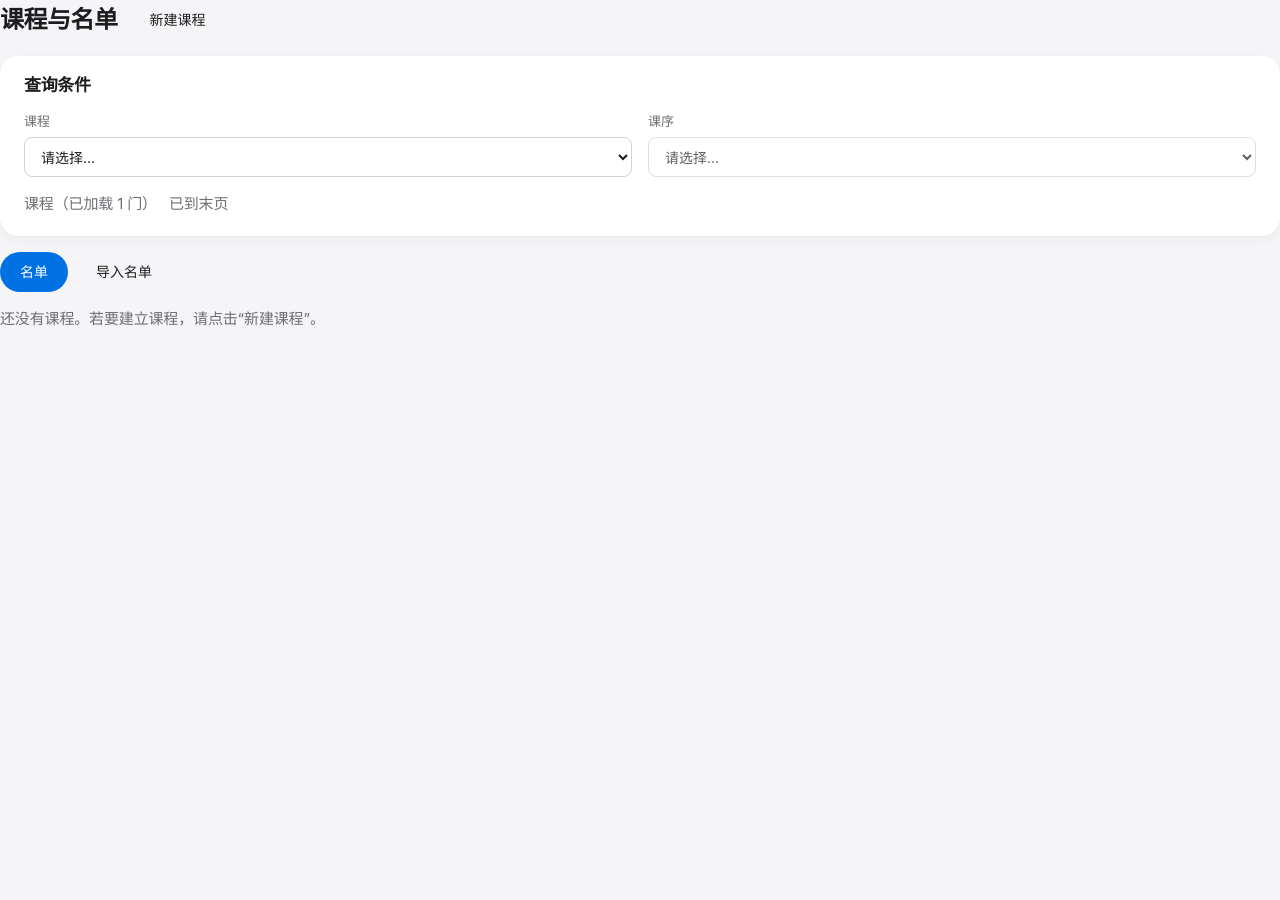
Test case: 课程与名单工作区（P12） › 课程名称为空时不发请求，只提示必填
The image size is (1280, 900).
Select "OS-2026 · 操作系统" in the dropdown labelled "课程" at x=328, y=157, box [24,137,632,177]
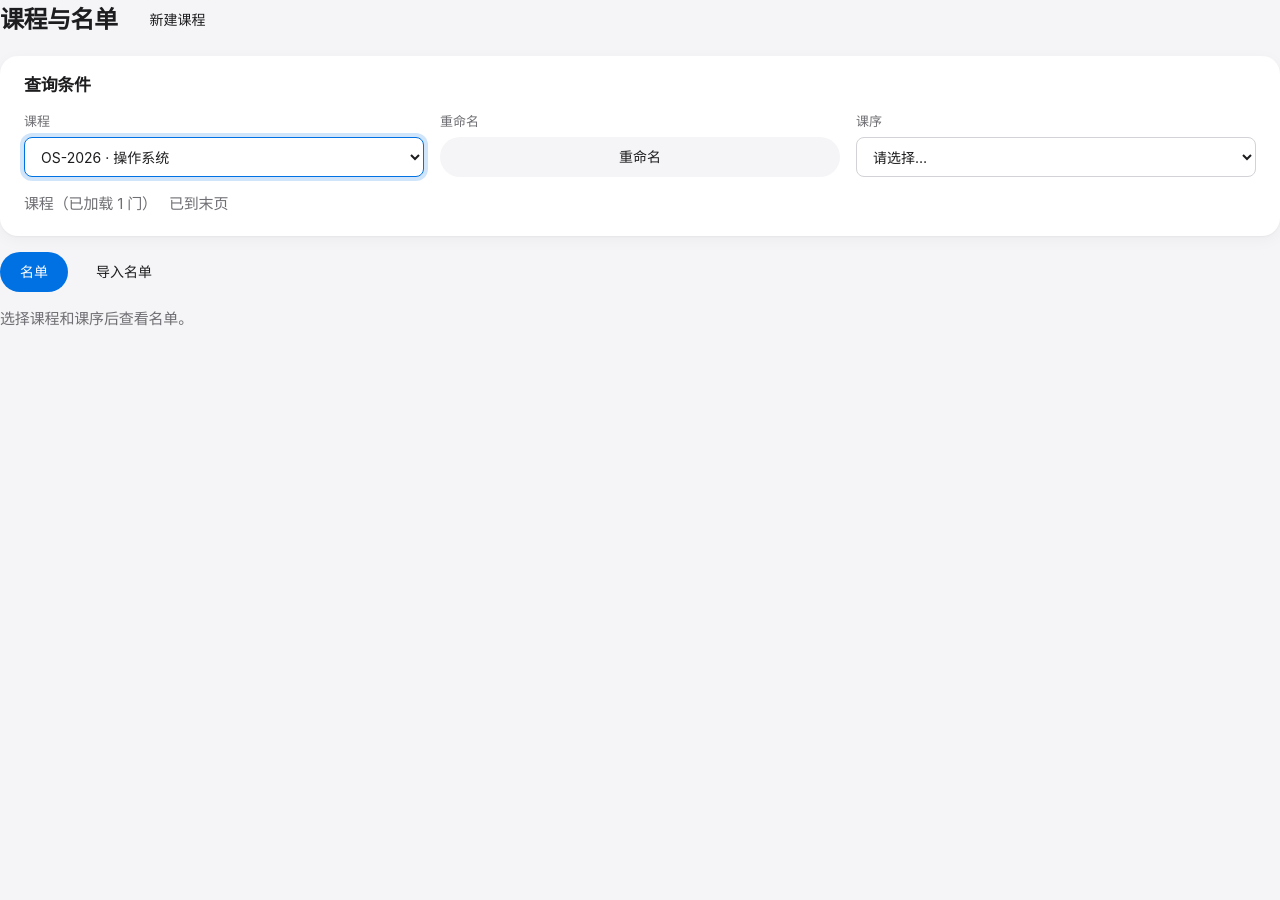
Select "01" in the dropdown labelled "课序" at x=1056, y=157, box [856,137,1256,177]
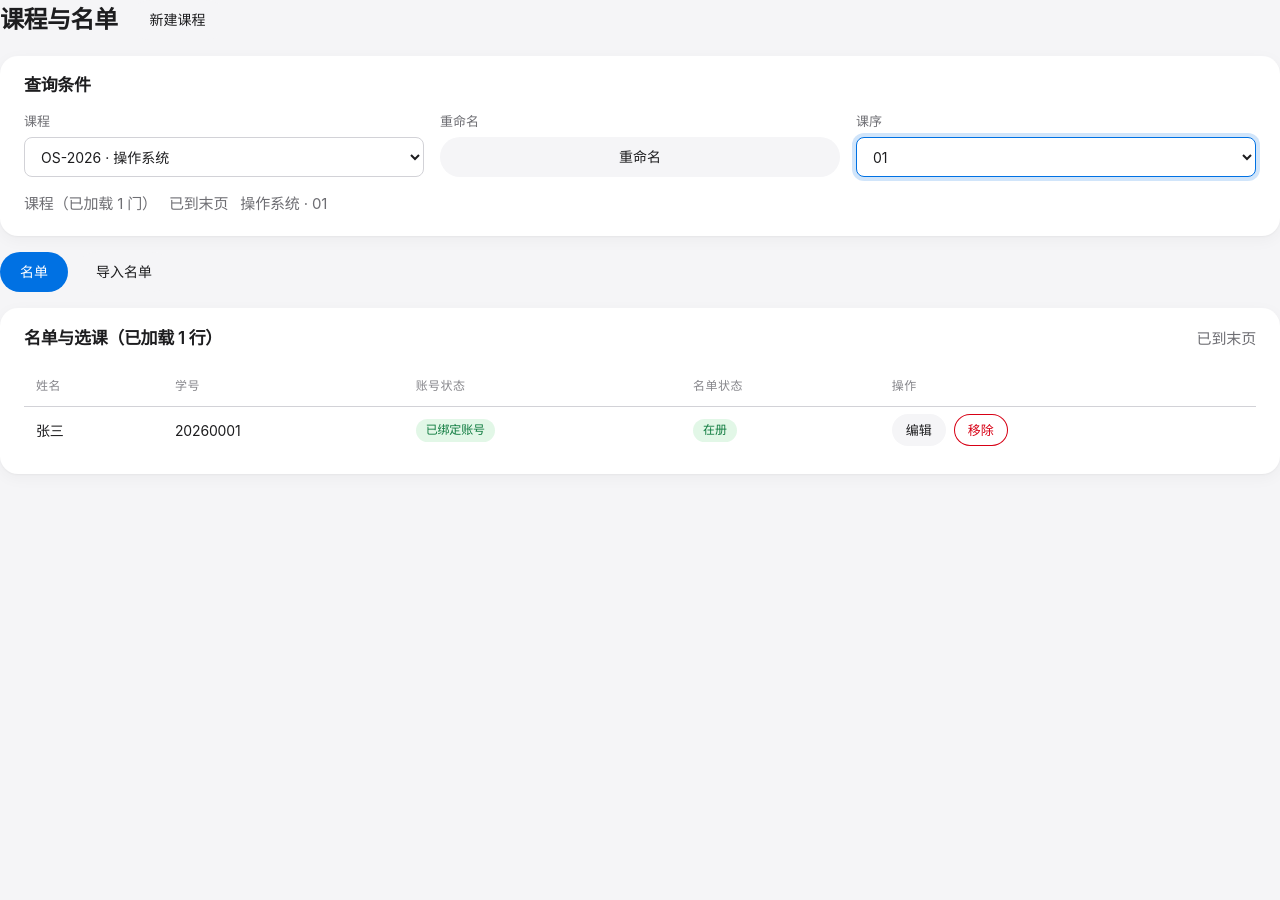
Click the button with test id "create-course-entry".
click(178, 20)  # box [130,0,226,40]
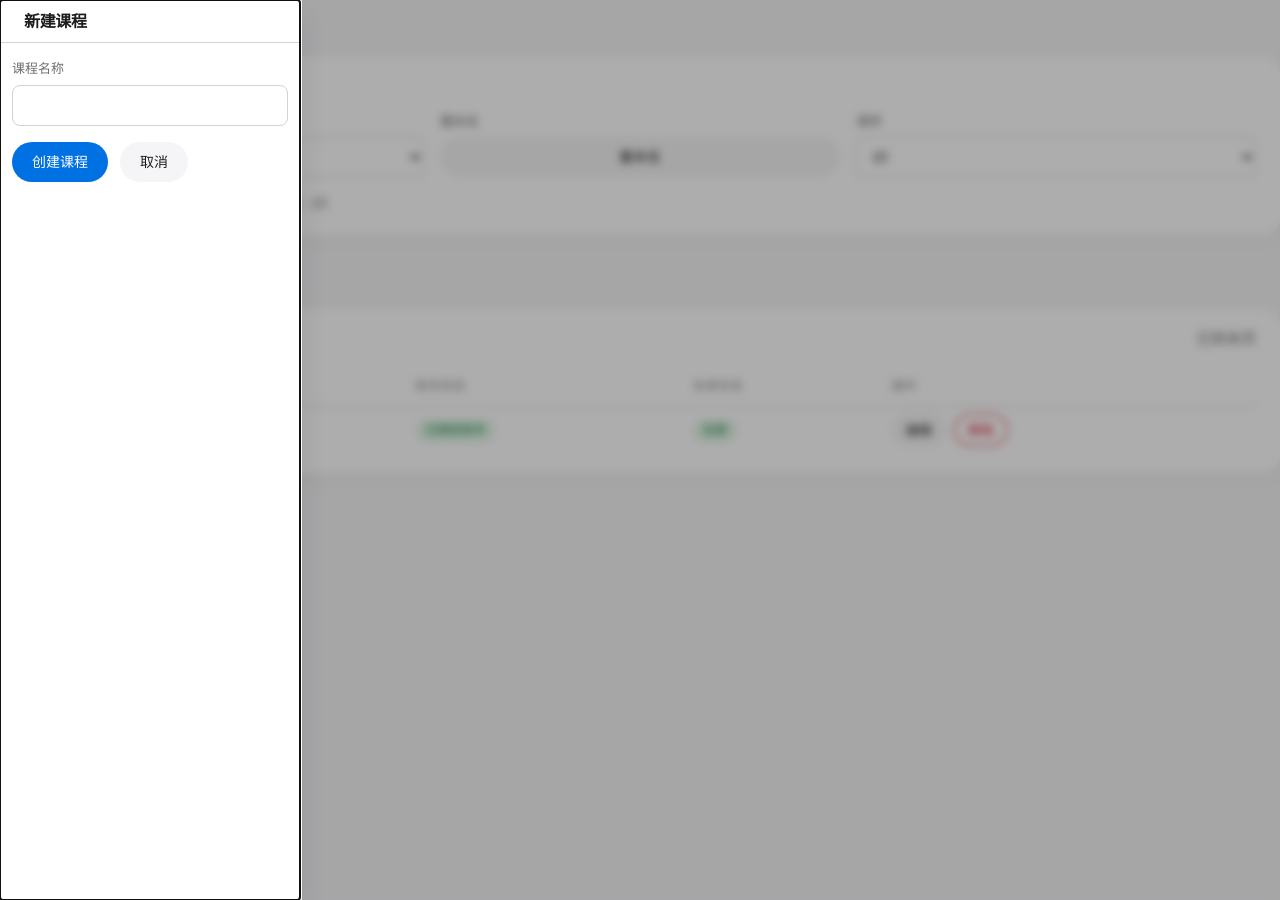
Click the button "创建课程".
click(60, 162)  # box [12,142,108,182]
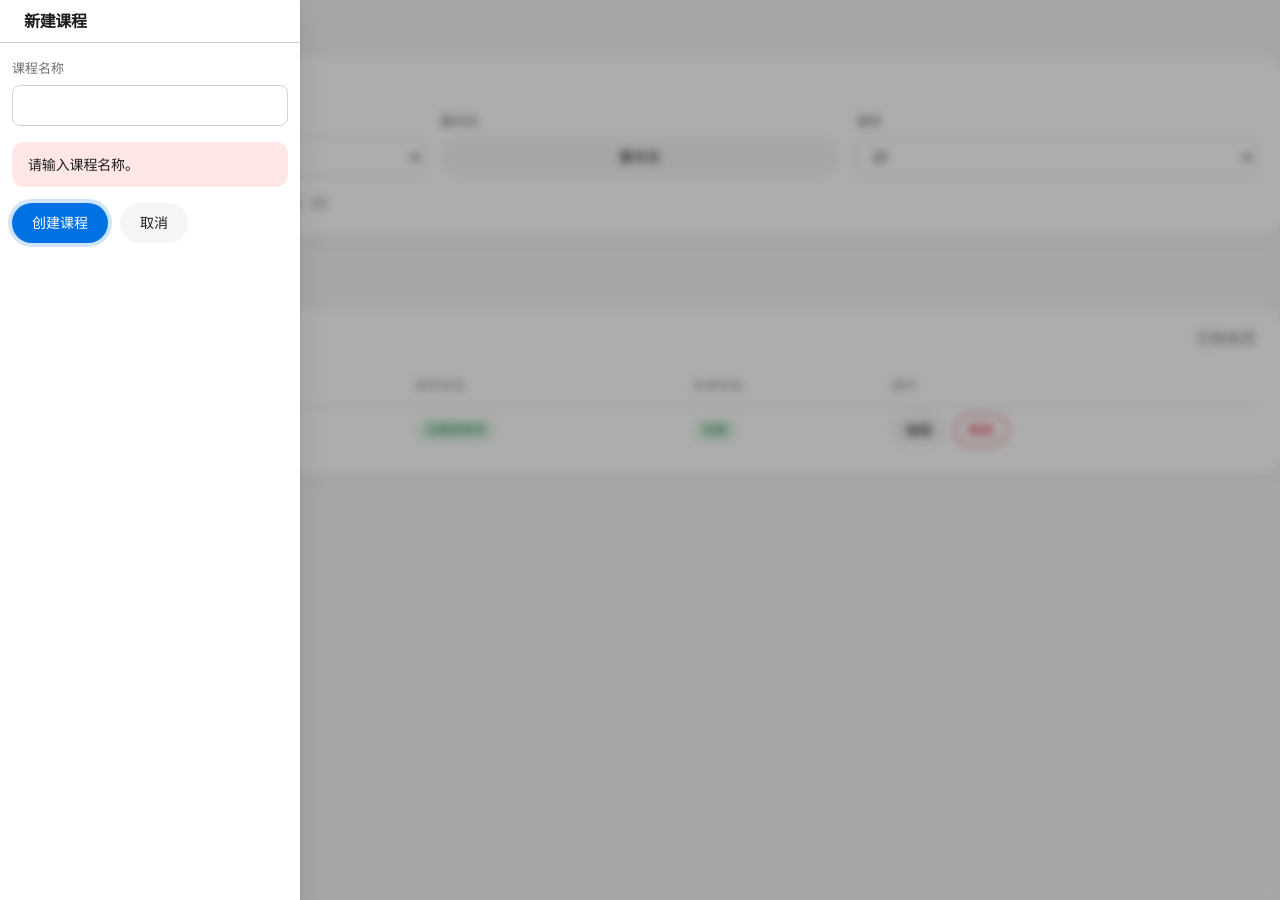
Check: the message with test id "create-course-error" reads "请输入课程名称。", box [28,156,139,173]
